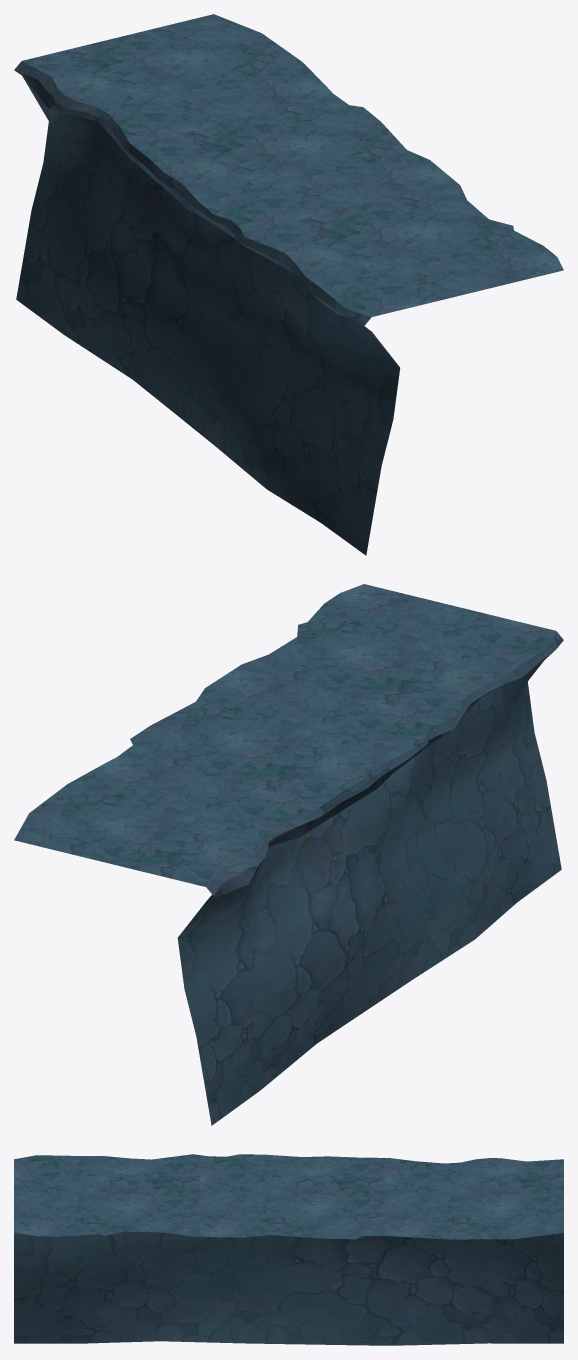
File: map111_dibiao_1.fbx
3 views of the same model, one above another, from view 1: azimuth 30°, elevation 25°; view 2: azimuth 150°, elevation 25°; view 3: azimuth 270°, elevation 25° (orthographic). The views are drawn at different scales.
Parts seen in each view (by area): view 1: map111_dibiao_1; view 2: map111_dibiao_1; view 3: map111_dibiao_1.
Part boxes in pixels (box(x1,y1,x2,y2)): map111_dibiao_1: box(14, 14, 563, 555); map111_dibiao_1: box(14, 584, 563, 1125); map111_dibiao_1: box(14, 1154, 563, 1345).
Bounding box in the file's own units: 23.53 × 22.86 × 61.01.
